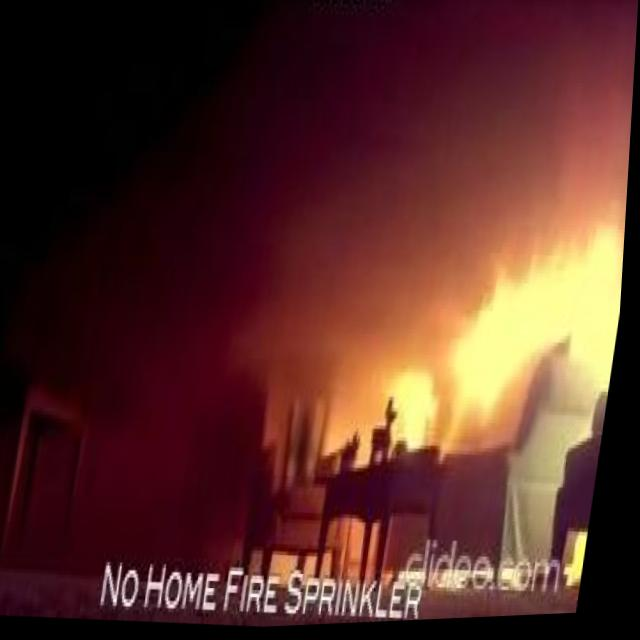fire: (451, 211, 629, 378), (448, 253, 548, 432), (391, 370, 447, 455)
